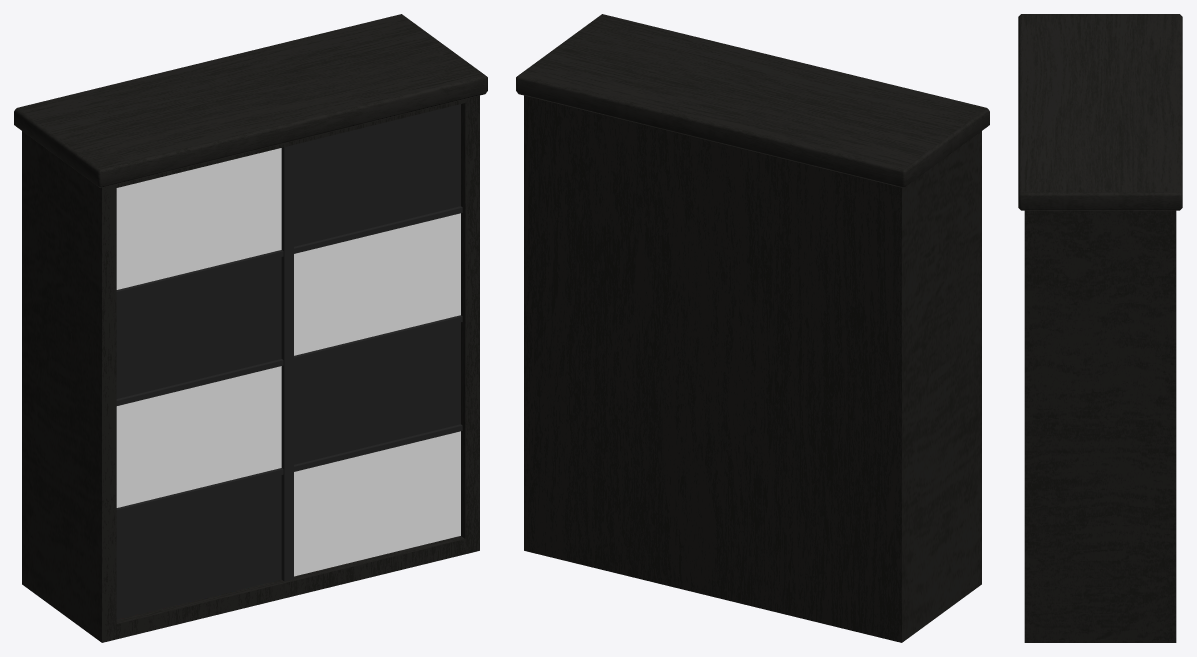
Rendered from cupboard_002.fbx.
3 renders of one model, left to right at view 1: azimuth 30°, elevation 25°; view 2: azimuth 150°, elevation 25°; view 3: azimuth 270°, elevation 25°, orthographic. The views are drawn at different scales.
Parts seen in each view (by area): view 1: cupboard_002; view 2: cupboard_002; view 3: cupboard_002.
Part boxes in pixels (x1,y1,x2,y2): cupboard_002: [14, 14, 487, 642]; cupboard_002: [516, 14, 989, 642]; cupboard_002: [1018, 14, 1182, 642].
Bounding box in the file's own units: 252 × 96.64 × 293.
